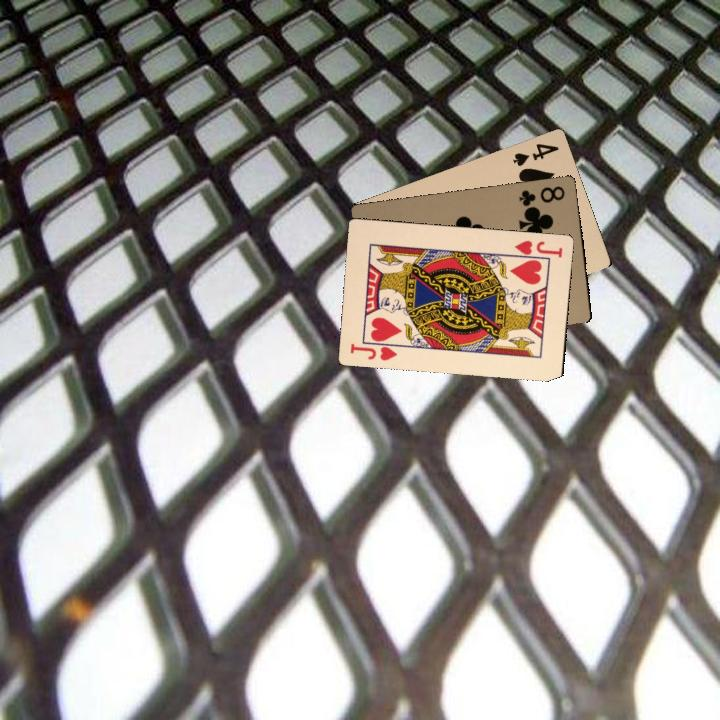4s: (509, 139, 561, 169)
8c: (515, 182, 567, 210)
Jh: (509, 236, 565, 262), (346, 340, 399, 363)
